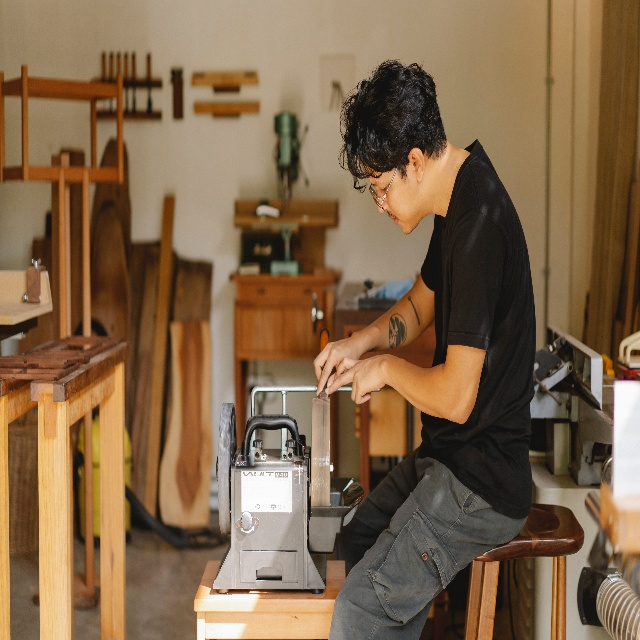Gafas: (369, 162, 398, 209)
Sin_guantes: (324, 353, 391, 405), (313, 333, 365, 397)
